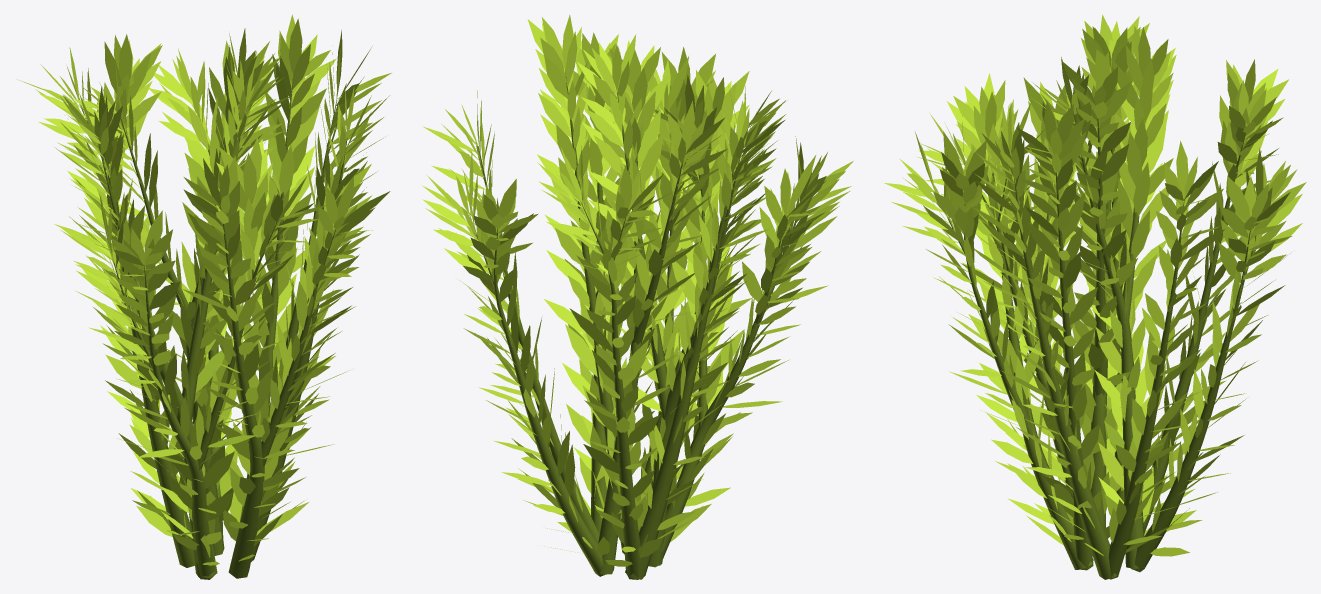
The model's file is bush2.fbx.
3 renders of one model, left to right at view 1: azimuth 30°, elevation 25°; view 2: azimuth 150°, elevation 25°; view 3: azimuth 270°, elevation 25°, orthographic. The views are drawn at different scales.
Parts seen in each view (by area): view 1: leaves, tree; view 2: leaves, tree; view 3: leaves, tree.
Boxes of the visible parts, x1,y1,x2,y2 form: leaves: (17,14,391,565); tree: (79,79,347,579); leaves: (422,14,853,566); tree: (469,70,796,579); leaves: (884,14,1306,556); tree: (947,68,1250,579).
Bounding box in the file's own units: 226 × 344 × 255.
